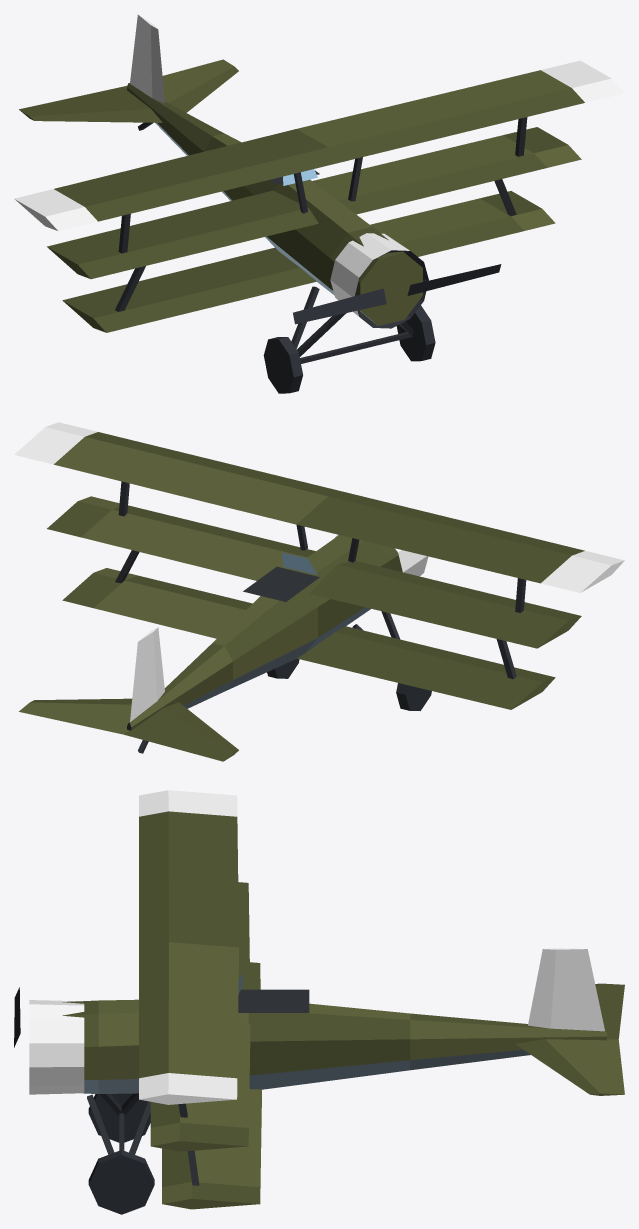
Rendered from fokker_dr1_lod.glb.
The picture shows the model from 3 angles, top to bottom: view 1: azimuth 30°, elevation 25°; view 2: azimuth 150°, elevation 25°; view 3: azimuth 270°, elevation 25°; orthographic projection. The views are drawn at different scales.
Parts seen in each view (by area): view 1: body, prop; view 2: body; view 3: body.
Boxes of the visible parts, left/top/right/bottom form: body: left=14, top=14, right=624, bottom=393; prop: left=293, top=264, right=501, bottom=324; body: left=14, top=422, right=624, bottom=761; body: left=29, top=790, right=624, bottom=1214.
Size of the model in its own units: 7.19 by 2.59 by 6.1.
